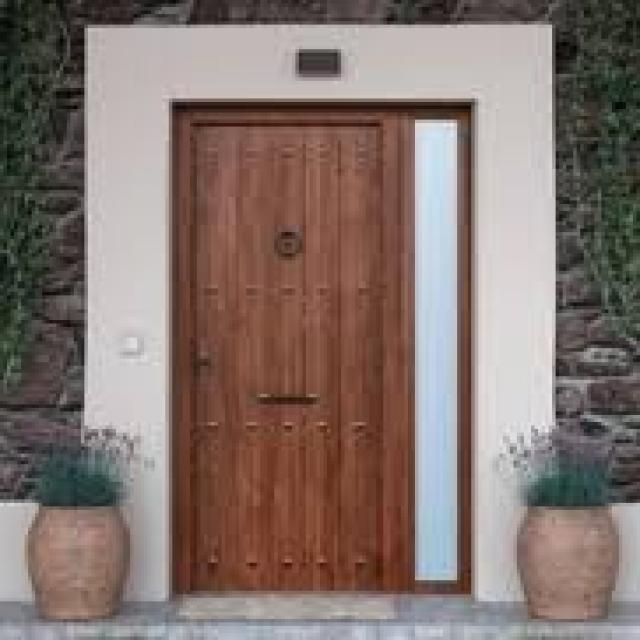door: (176, 109, 411, 594)
